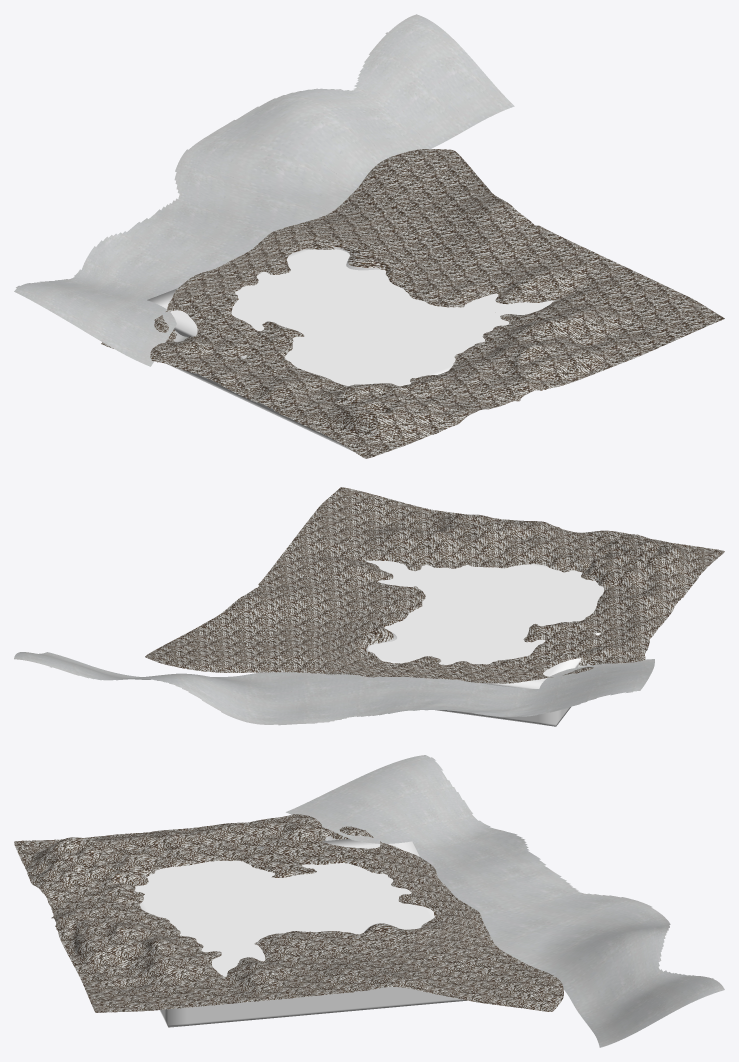
Rendered from world-core.glb.
3 renders of one model, top to bottom at view 1: azimuth 30°, elevation 25°; view 2: azimuth 150°, elevation 25°; view 3: azimuth 270°, elevation 25°, orthographic. The views are drawn at different scales.
Visible parts, largest first — view 1: Landscape.004, Landscape.003, Landscape_plane; view 2: Landscape.004, Landscape.003, Landscape_plane; view 3: Landscape.004, Landscape.003, Landscape_plane.
Part boxes in pixels (x1,y1,x2,y2): Landscape.004: [101, 149, 724, 458]; Landscape.003: [14, 14, 514, 366]; Landscape_plane: [147, 249, 553, 451]; Landscape.004: [145, 487, 724, 683]; Landscape.003: [14, 652, 654, 725]; Landscape_plane: [366, 560, 604, 726]; Landscape.004: [14, 814, 563, 1012]; Landscape.003: [286, 755, 724, 1047]; Landscape_plane: [134, 839, 466, 1027].
Bounding box in the file's own units: 22.9 × 3.45 × 25.92.
Materials: 4 (3 with a texture image).
